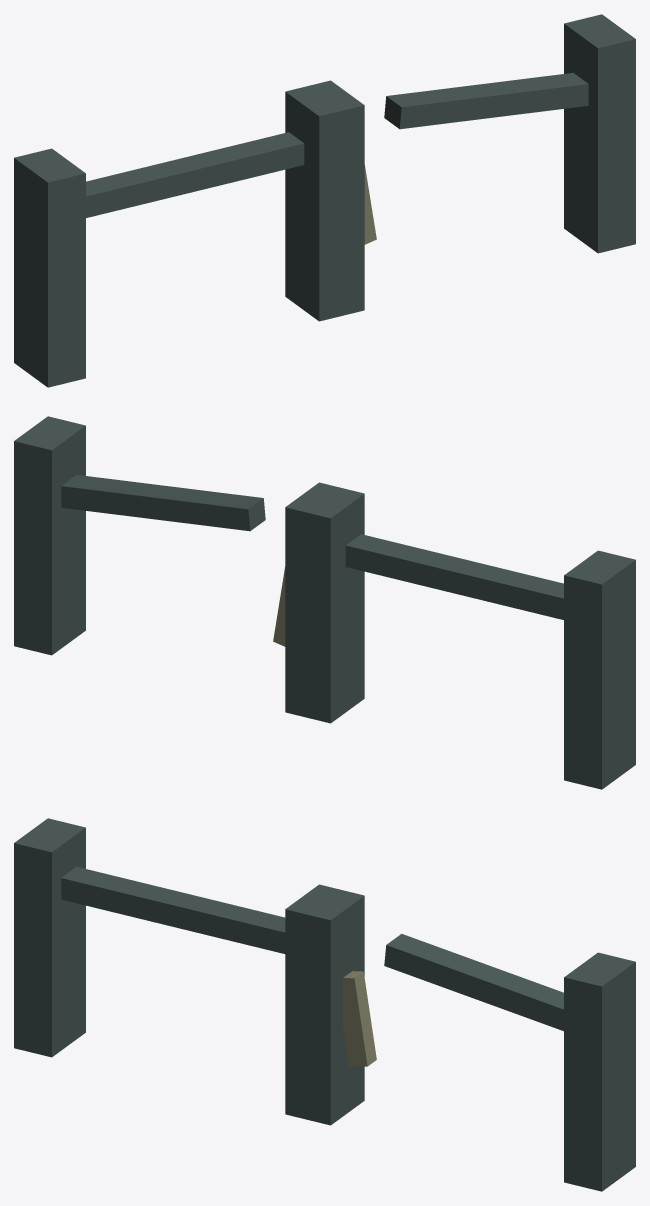
Rendered from env_r14_broken_ship_rail.glb.
3 views of the same model, one above another, from view 1: azimuth 30°, elevation 25°; view 2: azimuth 150°, elevation 25°; view 3: azimuth 330°, elevation 25° (orthographic).
Parts seen in each view (by area): view 1: env_r14_broken_ship_rail; view 2: env_r14_broken_ship_rail; view 3: env_r14_broken_ship_rail.
Part boxes in pixels (x1,y1,x2,y2): env_r14_broken_ship_rail: (14, 14, 635, 387); env_r14_broken_ship_rail: (14, 416, 635, 789); env_r14_broken_ship_rail: (14, 818, 635, 1191).
Size of the model in its own units: 3 by 1 by 0.3.
Materials: 1 (1 with a texture image).
